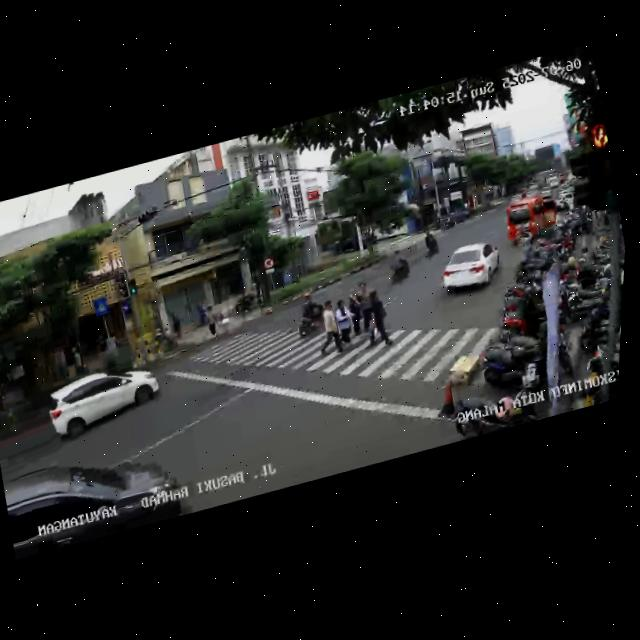car: (0, 440, 188, 560), (41, 356, 165, 447), (434, 235, 509, 303), (501, 189, 564, 247)
motorcycle: (292, 293, 327, 339), (381, 245, 414, 288)
person: (356, 286, 394, 351), (311, 297, 346, 358), (329, 292, 359, 351), (354, 280, 378, 330), (344, 286, 367, 337), (202, 302, 223, 342)
